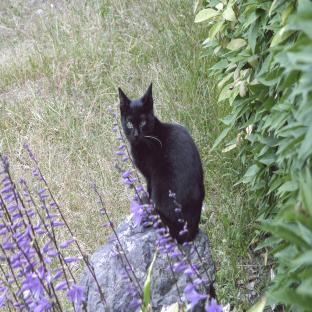Animal: (119, 83, 204, 243)
